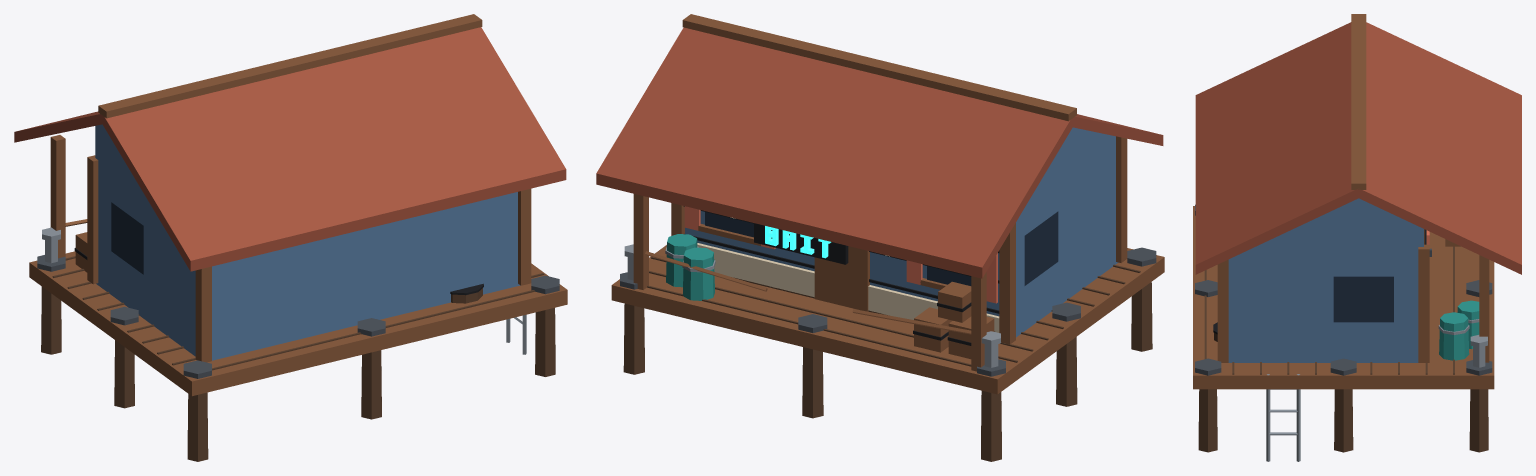
Rendered from pier_hut.glb.
3 renders of one model, left to right at view 1: azimuth 30°, elevation 25°; view 2: azimuth 150°, elevation 25°; view 3: azimuth 270°, elevation 25°, orthographic. The views are drawn at different scales.
Visible parts, largest first — view 1: Body; view 2: Body; view 3: Body.
Part boxes in pixels (bbox=[...]): Body: bbox=[14, 14, 567, 461]; Body: bbox=[596, 14, 1164, 461]; Body: bbox=[1193, 14, 1521, 461].
Size of the model in its own units: 8 by 6.12 by 6.55.
